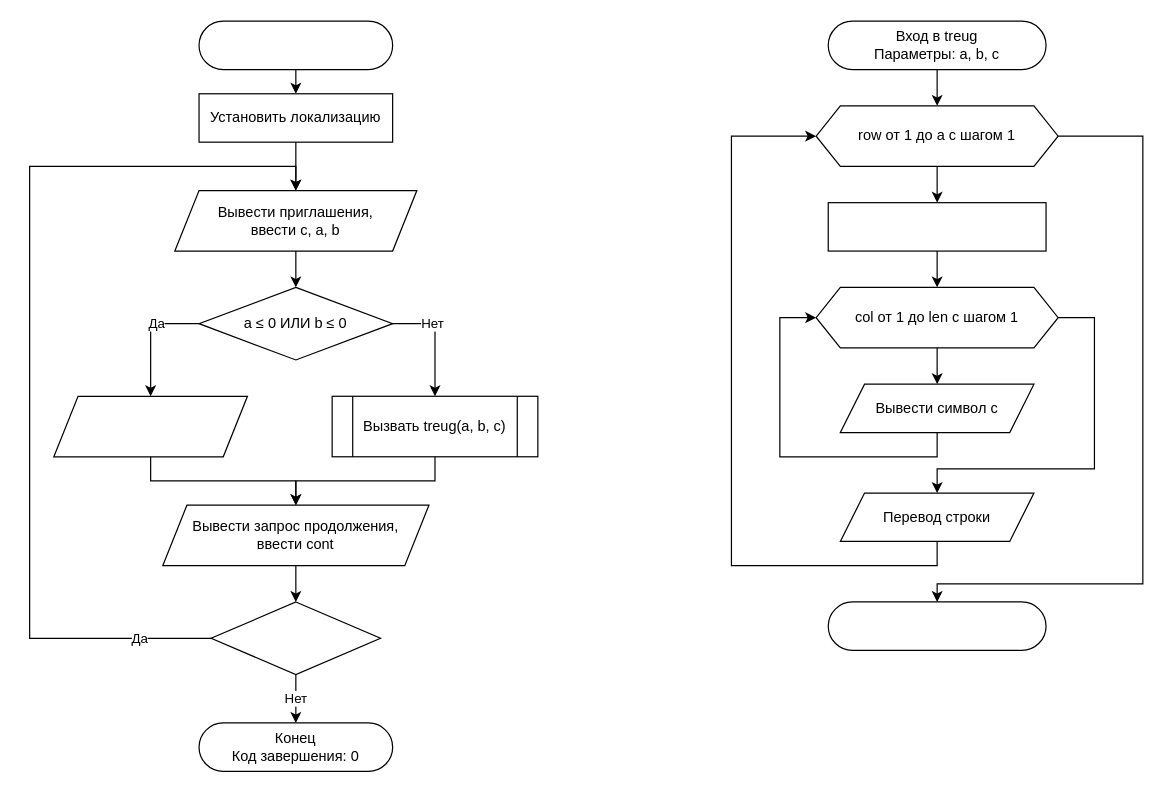
This 1174x793 diagram has some shape labels left out. Here are the shapes that lost their labels. From the top down, the centre of each, then its label:
At [295,45]: "Начало".
At [936,226]: "len ← (row * b + a - 1) / a".
At [150,426]: "Вывести сообщение об ошибке".
At [295,638]: "cont ≠ 0".
At [936,625]: "Возврат 0 в место вызова функции".
